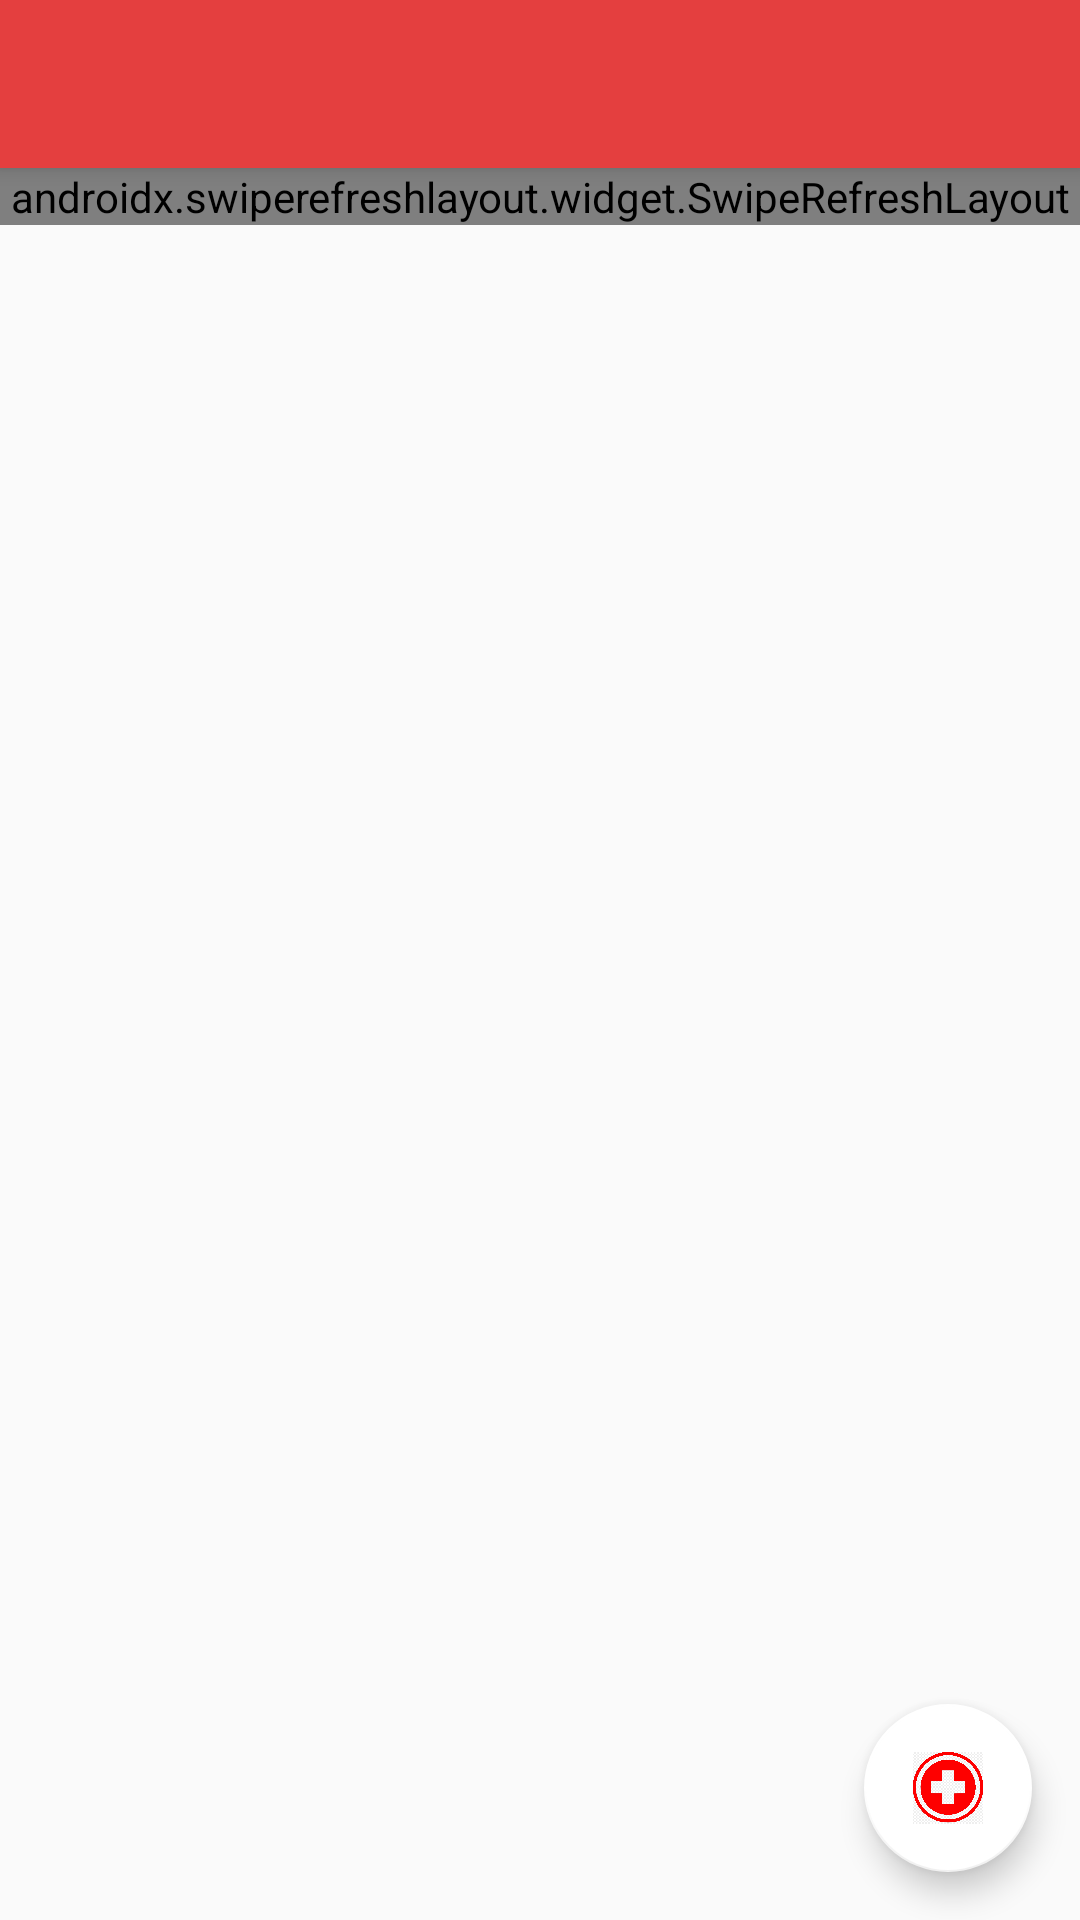

Locate icon controls on the screen. Image size 1080w x 1920h, boxes as (x1, y1, x2, y2).
add patient: (913, 1752, 983, 1823)
